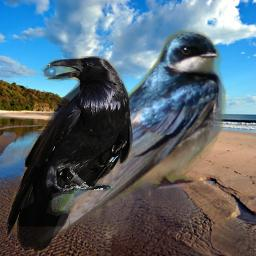Crow: (6, 56, 134, 254)
Swallow: (37, 26, 228, 250)
